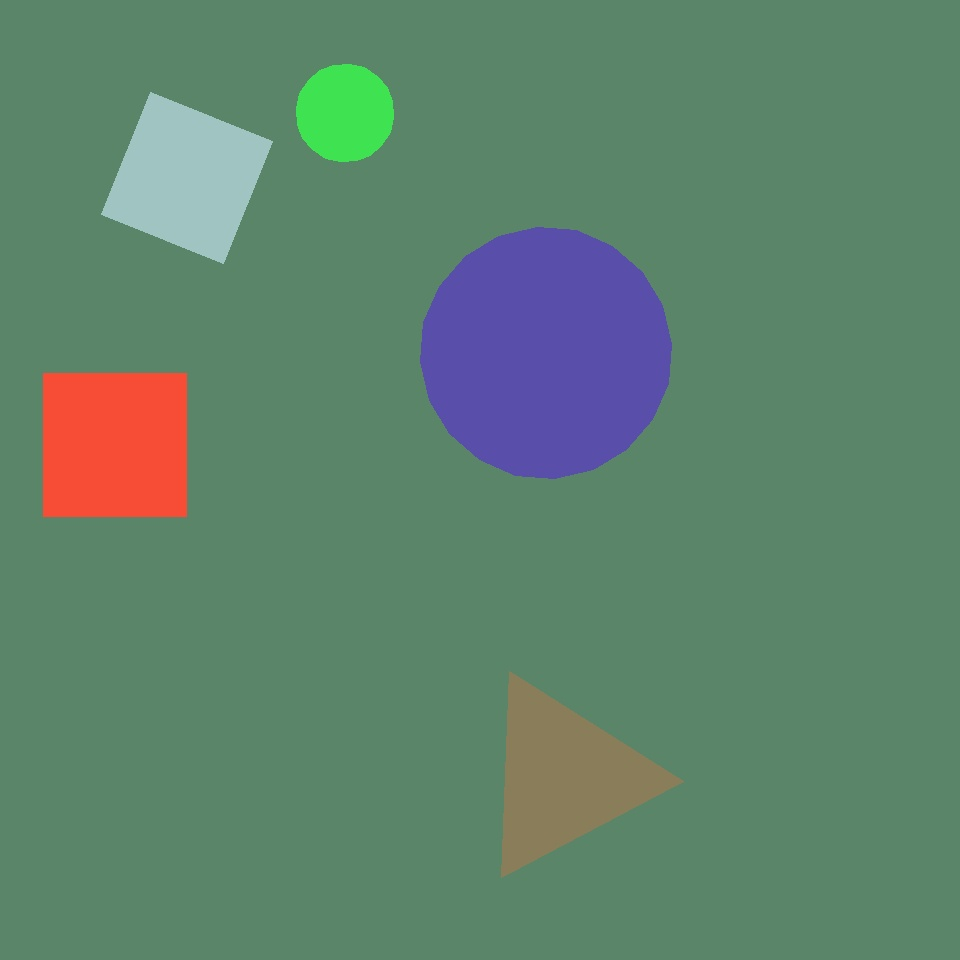circle: (474, 674, 656, 880)
square: (102, 92, 272, 264), (44, 374, 186, 516)
triangle: (420, 228, 672, 479), (296, 64, 394, 162)
